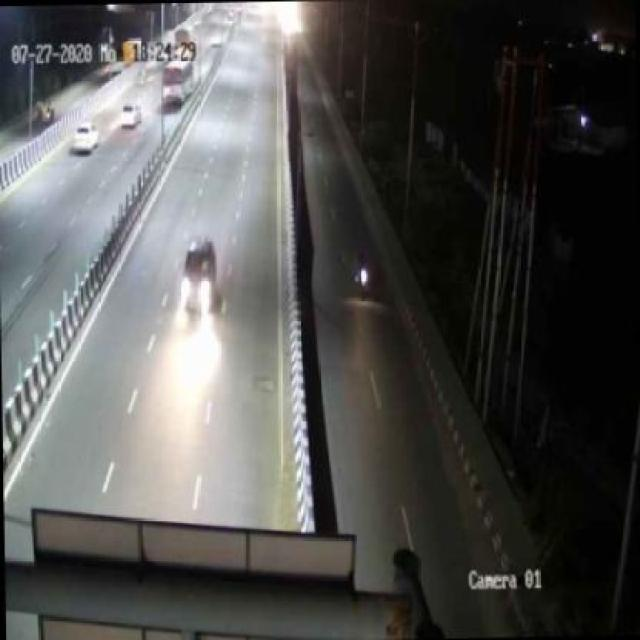car: (176, 236, 224, 326)
